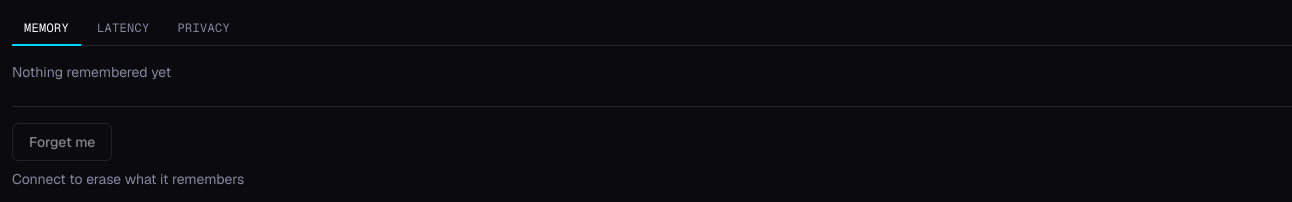
Test: PanelTabs › a click selects a tab and shows its panel
Click the tab "Latency" at (123, 29), box [85, 12, 162, 46]
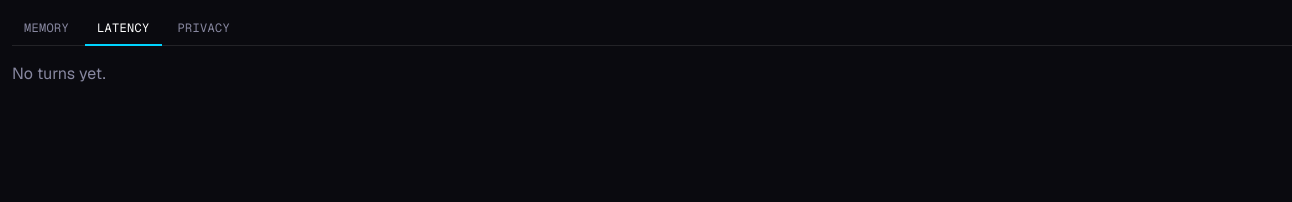
Expected: the panel named "Latency" is shown, [12, 63, 106, 84]
